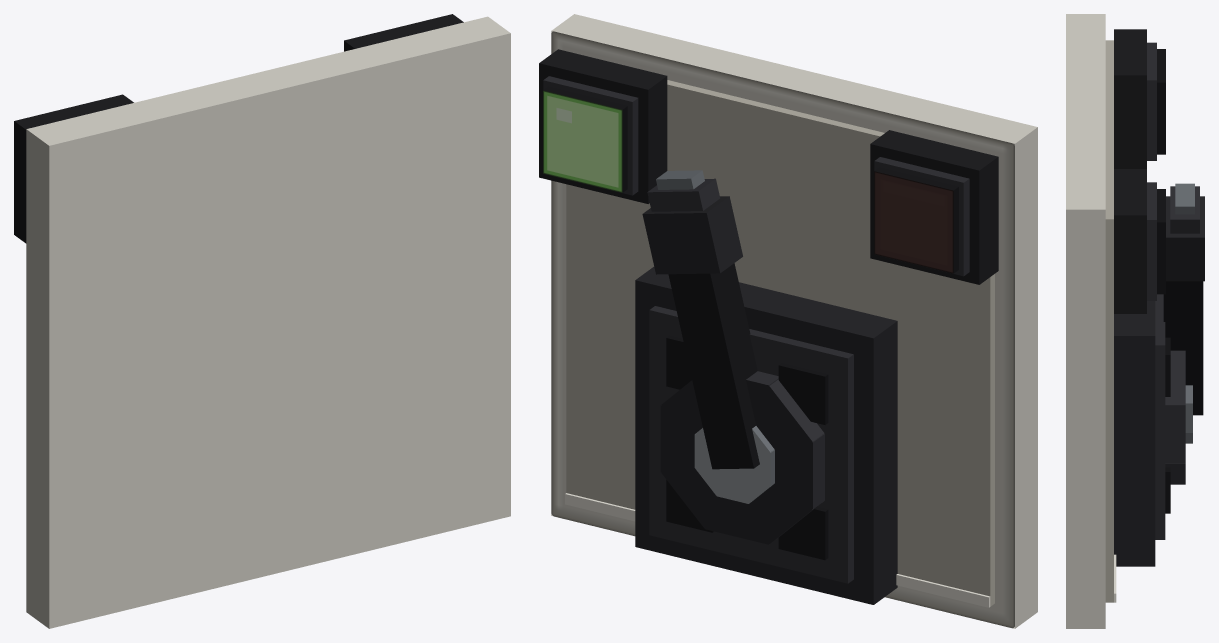
The model's file is lever_switch_open.obj.
The picture shows the model from 3 angles, left to right: view 1: azimuth 30°, elevation 25°; view 2: azimuth 150°, elevation 25°; view 3: azimuth 270°, elevation 25°; orthographic projection. The views are drawn at different scales.
Parts seen in each view (by area): view 1: Panel, LampRed, LampGreen; view 2: Panel, Base, Lever, LampRed, LampGreen; view 3: Panel, Base, Lever, LampGreen, LampRed.
Boxes of the visible parts, bbox=[...] form: Panel: bbox=[26, 16, 510, 628]; LampRed: bbox=[14, 94, 133, 243]; LampGreen: bbox=[344, 14, 463, 51]; Panel: bbox=[551, 14, 1037, 628]; Base: bbox=[635, 266, 897, 604]; Lever: bbox=[642, 170, 759, 469]; LampRed: bbox=[870, 130, 998, 284]; LampGreen: bbox=[539, 49, 667, 203]; Panel: bbox=[1066, 14, 1116, 628]; Base: bbox=[1114, 294, 1192, 566]; Lever: bbox=[1163, 183, 1204, 415]; LampGreen: bbox=[1114, 169, 1165, 313]; LampRed: bbox=[1114, 29, 1165, 168].
Bounding box in the file's own units: 0.875 × 0.875 × 0.2625.
1 material, 1 textured.
